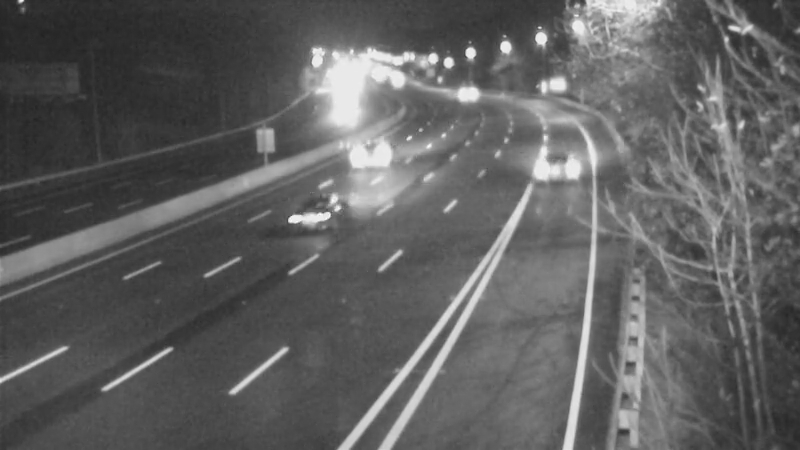vehicle: (518, 132, 598, 212), (333, 112, 413, 192), (273, 169, 353, 249), (441, 69, 491, 119), (316, 89, 366, 139)
